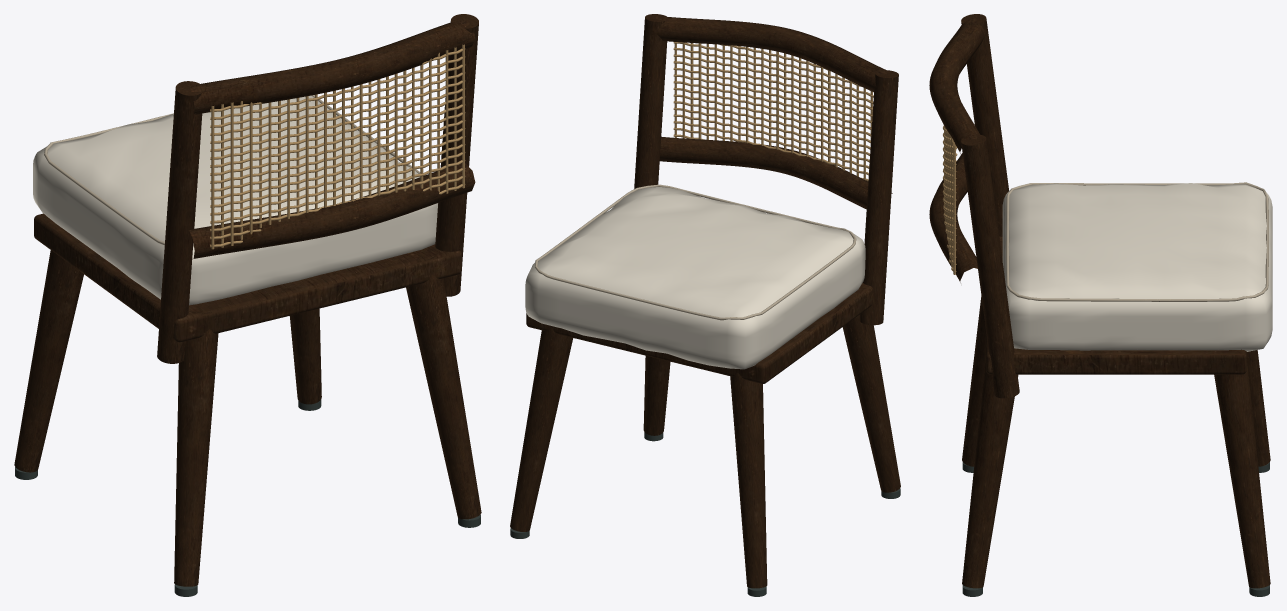
Rendered from dining-cane-chair.glb.
The picture shows the model from 3 angles, left to right: view 1: azimuth 30°, elevation 25°; view 2: azimuth 150°, elevation 25°; view 3: azimuth 270°, elevation 25°; orthographic projection. The views are drawn at different scales.
Parts seen in each view (by area): view 1: walnut_surfaces, linen_surfaces, cane_surfaces, welt_surfaces, steel_surfaces; view 2: walnut_surfaces, linen_surfaces, cane_surfaces, welt_surfaces, steel_surfaces; view 3: linen_surfaces, walnut_surfaces, welt_surfaces, cane_surfaces, steel_surfaces.
Part boxes in pixels (bbox=[...]): walnut_surfaces: bbox=[14, 14, 481, 586]; linen_surfaces: bbox=[33, 95, 437, 305]; cane_surfaces: bbox=[210, 44, 465, 249]; welt_surfaces: bbox=[44, 95, 420, 247]; steel_surfaces: bbox=[15, 399, 480, 596]; walnut_surfaces: bbox=[510, 14, 900, 588]; linen_surfaces: bbox=[525, 187, 865, 369]; cane_surfaces: bbox=[673, 42, 873, 181]; welt_surfaces: bbox=[535, 184, 856, 320]; steel_surfaces: bbox=[510, 432, 900, 596]; linen_surfaces: bbox=[1002, 183, 1272, 351]; walnut_surfaces: bbox=[929, 14, 1270, 588]; welt_surfaces: bbox=[1006, 182, 1268, 301]; cane_surfaces: bbox=[942, 125, 957, 274]; steel_surfaces: bbox=[962, 462, 1269, 596].
Size of the model in its own units: 0.5197 by 0.833 by 0.5655.
5 materials, 1 textured.
